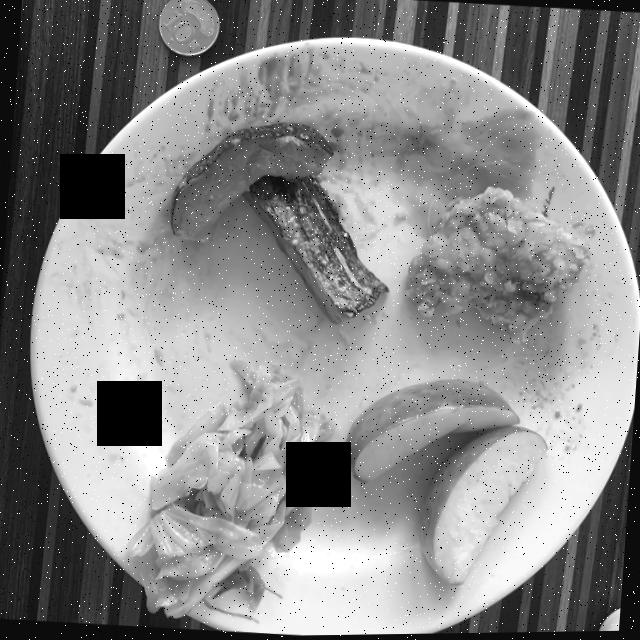apple -sliced-: (345, 380, 547, 586)
cabbage: (127, 360, 335, 618)
coin: (158, 0, 219, 57)
fried chicken cutlet: (404, 189, 591, 344)
pumpkin: (170, 123, 387, 325)
